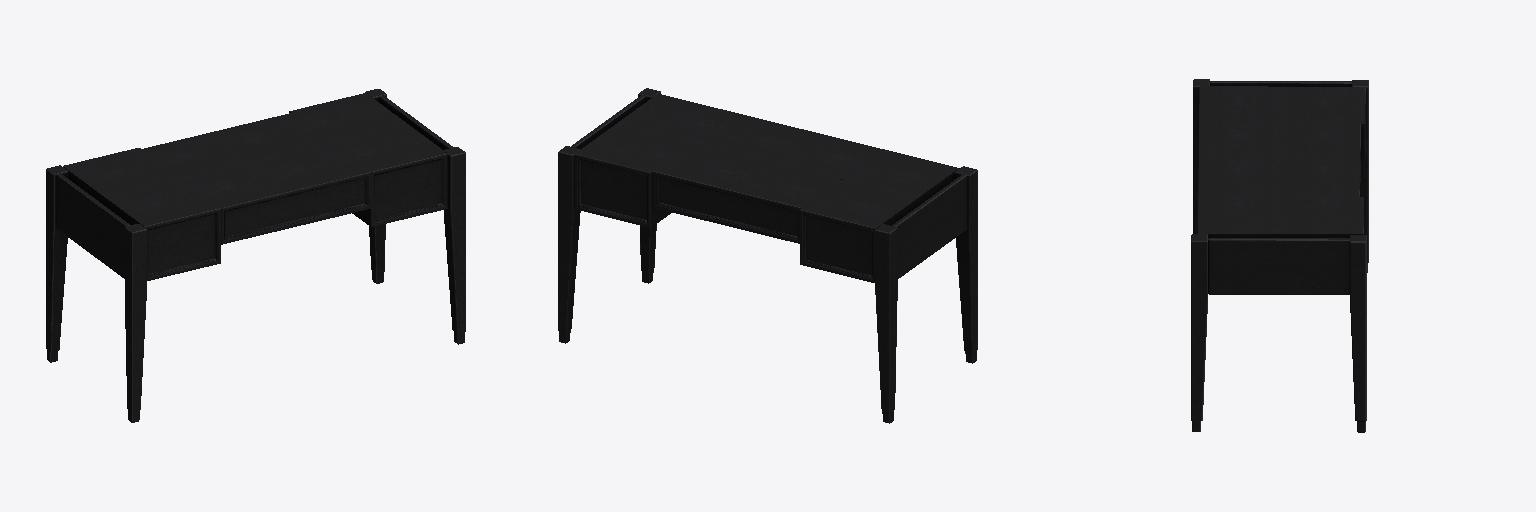
3 views of the same model, side by side, from view 1: azimuth 30°, elevation 25°; view 2: azimuth 150°, elevation 25°; view 3: azimuth 270°, elevation 25° (orthographic).
Visible parts, largest first — view 1: solid_001, solid_002; view 2: solid_001, solid_002; view 3: solid_001, solid_002.
Part boxes in pixels (bbox=[...]): solid_001: bbox=[57, 93, 453, 280]; solid_002: bbox=[46, 89, 465, 422]; solid_001: bbox=[571, 94, 966, 282]; solid_002: bbox=[558, 88, 977, 423]; solid_001: bbox=[1198, 81, 1365, 294]; solid_002: bbox=[1191, 79, 1368, 432].
Bounding box in the file's own units: 1.91 × 1.05 × 0.8783.
Materials: 1 (1 with a texture image).